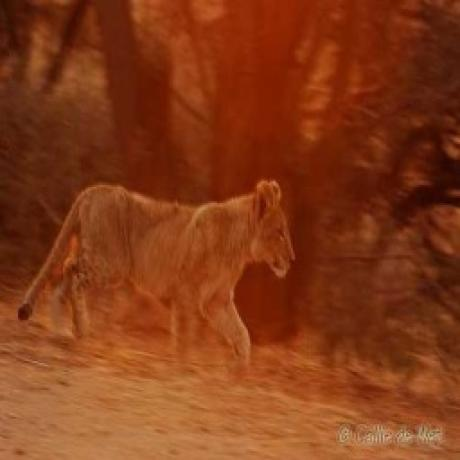Lion: (17, 176, 302, 375)
